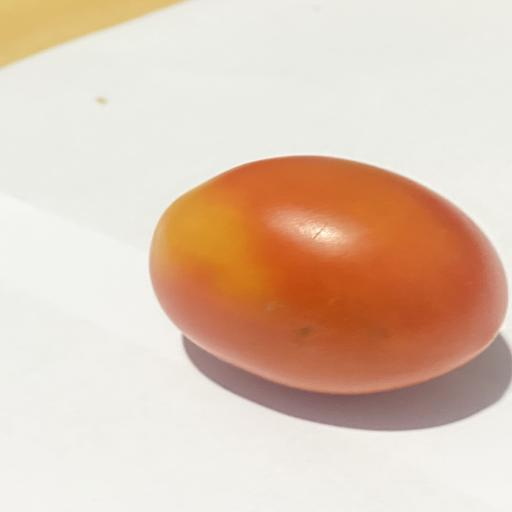ripe: (149, 156, 507, 394)
